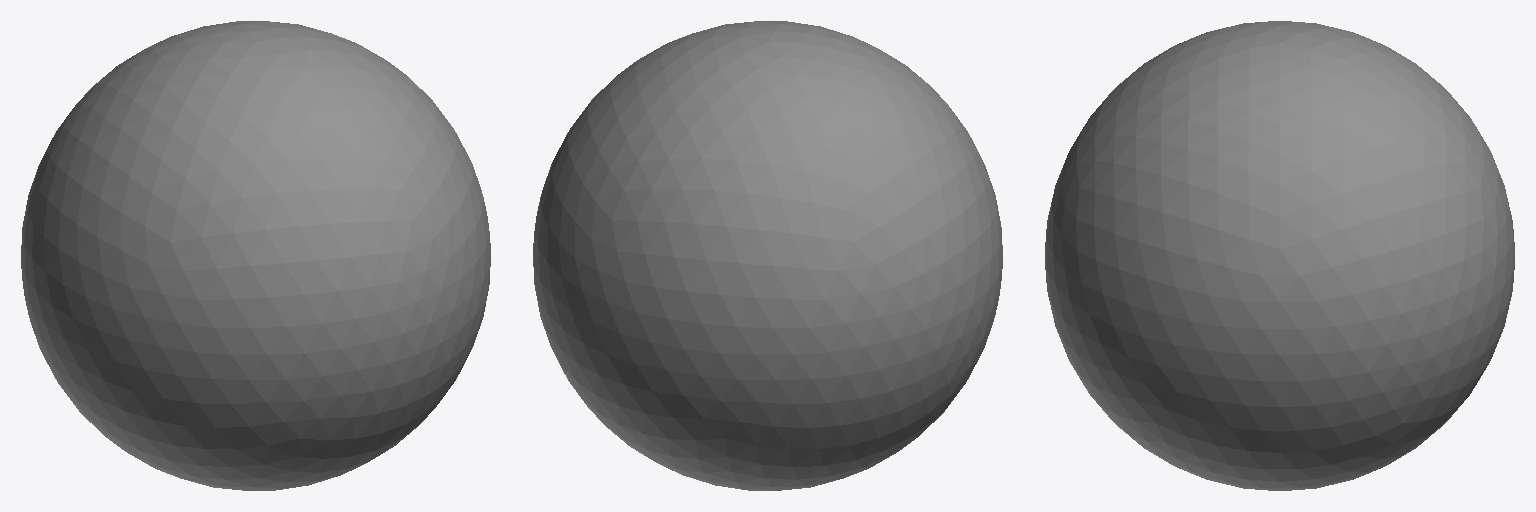
File: Earth.obj
The picture shows the model from 3 angles: view 1: azimuth 30°, elevation 25°; view 2: azimuth 150°, elevation 25°; view 3: azimuth 270°, elevation 25°; orthographic projection.
Parts seen in each view (by area): view 1: GeoSphere001; view 2: GeoSphere001; view 3: GeoSphere001.
Boxes of the visible parts, x1,y1,x2,y2 form: GeoSphere001: [21, 21, 490, 490]; GeoSphere001: [533, 21, 1002, 490]; GeoSphere001: [1045, 21, 1514, 490].
Size of the model in its own units: 50 by 50 by 50.